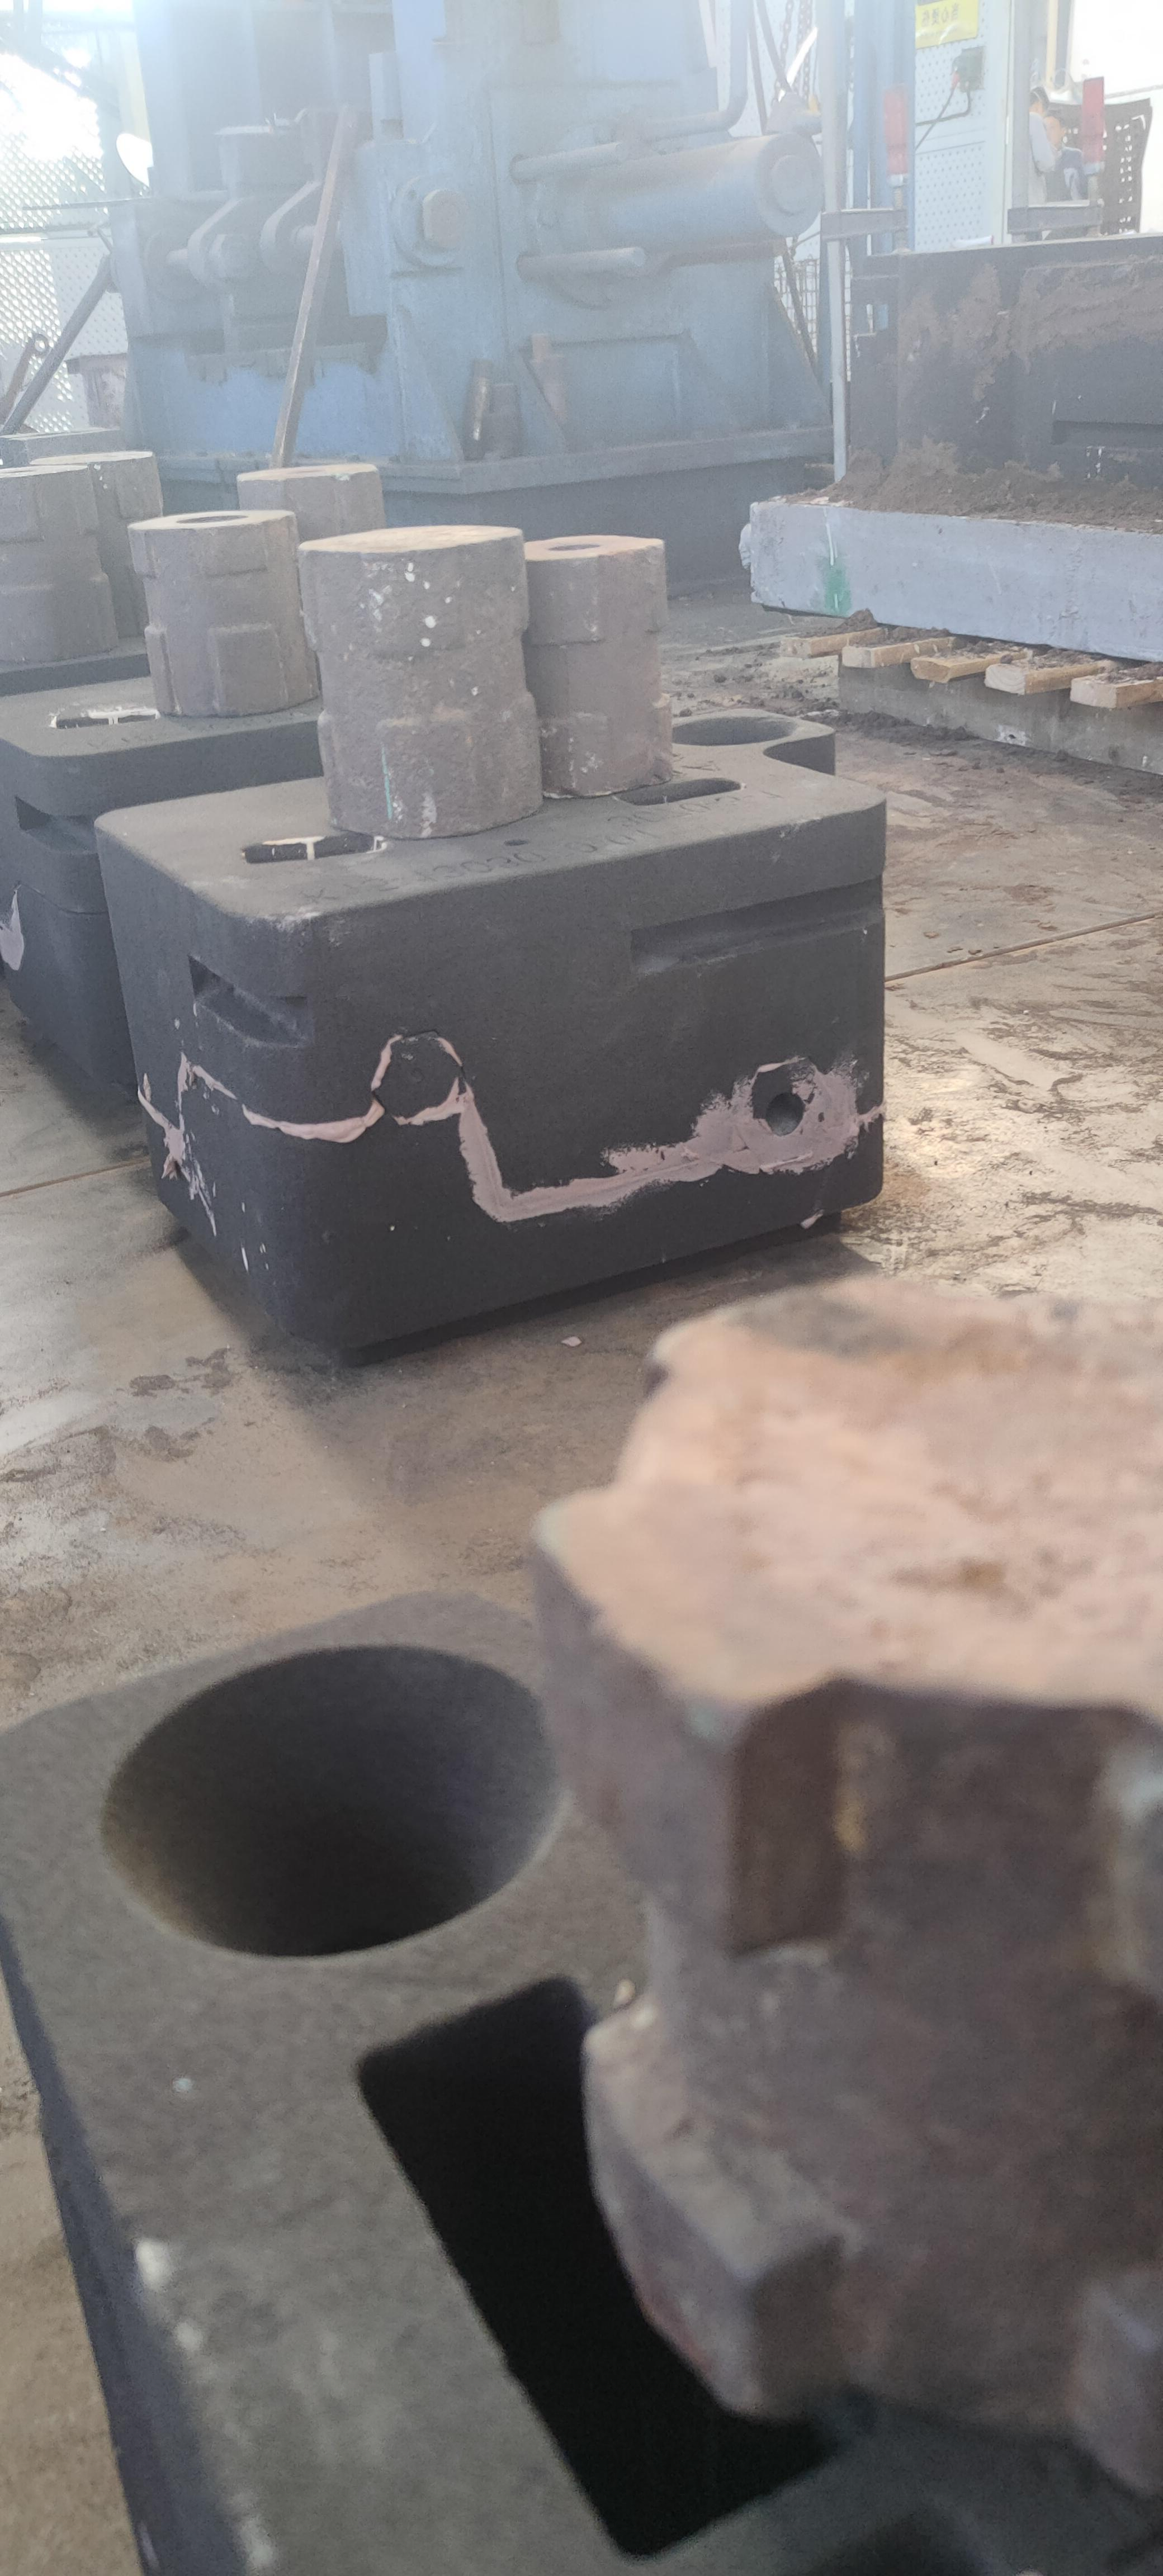pouring hole: (100, 1641, 563, 1963), (667, 715, 802, 746)
